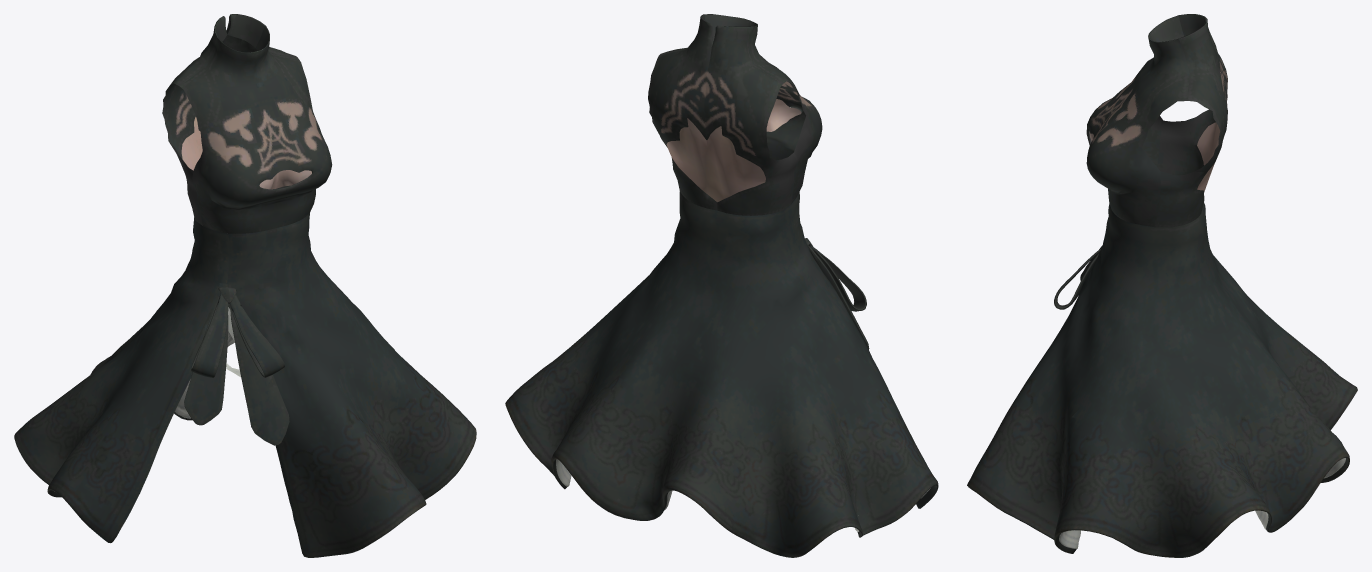
File: body.obj
The picture shows the model from 3 angles, left to right: view 1: azimuth 30°, elevation 25°; view 2: azimuth 150°, elevation 25°; view 3: azimuth 270°, elevation 25°; orthographic projection. The views are drawn at different scales.
Visible parts, largest first — view 1: body:Object01 body:polySurface9 body:polySurface10 body:polySurf, body:Object01 body:polySurface9 body:polySurface21 body:polySurf, body:Object01 body:polySurface2 body:polySurface9 body:polySurfa, body:Object01 body:polySurface9 body:polySurface23 body:polySurf, body:Object01 body:polySurface4 body:polySurface9 body:polySurfa, body:Object01 body:polySurface6 body:polySurface9 body:polySurfa, body:Object01 body:polySurface7 body:polySurface9 body:polySurfa, body:Object01 body:polySurface9 body:polySurface22 body:polySurf, body:Object01 body:polySurface9 body:polySurface48 body:polySurf, body:Object01 body:polySurface9 body:polySurface51 body:polySurf; view 2: body:Object01 body:polySurface9 body:polySurface10 body:polySurf, body:Object01 body:polySurface9 body:polySurface23 body:polySurf, body:Object01 body:polySurface9 body:polySurface22 body:polySurf, body:Object01 body:polySurface9 body:polySurface48 body:polySurf, body:Object01 body:polySurface9 body:polySurface21 body:polySurf, body:Object01 body:polySurface7 body:polySurface9 body:polySurfa, body:Object01 body:polySurface9 body:polySurface51 body:polySurf; view 3: body:Object01 body:polySurface9 body:polySurface10 body:polySurf, body:Object01 body:polySurface9 body:polySurface21 body:polySurf, body:Object01 body:polySurface9 body:polySurface22 body:polySurf, body:Object01 body:polySurface9 body:polySurface23 body:polySurf, body:Object01 body:polySurface9 body:polySurface48 body:polySurf, body:Object01 body:polySurface8 body:polySurface9 body:polySurfa, body:Object01 body:polySurface6 body:polySurface9 body:polySurfa.
Part boxes in pixels (x1,y1,x2,y2): body:Object01 body:polySurface9 body:polySurface10 body:polySurf: (14, 213, 476, 557); body:Object01 body:polySurface9 body:polySurface21 body:polySurf: (179, 26, 332, 233); body:Object01 body:polySurface2 body:polySurface9 body:polySurfa: (230, 305, 289, 445); body:Object01 body:polySurface9 body:polySurface23 body:polySurf: (162, 16, 227, 225); body:Object01 body:polySurface4 body:polySurface9 body:polySurfa: (184, 292, 228, 425); body:Object01 body:polySurface6 body:polySurface9 body:polySurfa: (229, 294, 284, 377); body:Object01 body:polySurface7 body:polySurface9 body:polySurfa: (191, 292, 228, 377); body:Object01 body:polySurface9 body:polySurface22 body:polySurf: (223, 14, 296, 56); body:Object01 body:polySurface9 body:polySurface48 body:polySurf: (181, 117, 202, 170); body:Object01 body:polySurface9 body:polySurface51 body:polySurf: (259, 170, 311, 189); body:Object01 body:polySurface9 body:polySurface10 body:polySurf: (505, 191, 938, 557); body:Object01 body:polySurface9 body:polySurface23 body:polySurf: (704, 25, 797, 215); body:Object01 body:polySurface9 body:polySurface22 body:polySurf: (648, 14, 717, 210); body:Object01 body:polySurface9 body:polySurface48 body:polySurf: (666, 118, 765, 202); body:Object01 body:polySurface9 body:polySurface21 body:polySurf: (662, 14, 822, 203); body:Object01 body:polySurface7 body:polySurface9 body:polySurfa: (808, 245, 866, 311); body:Object01 body:polySurface9 body:polySurface51 body:polySurf: (766, 99, 801, 131); body:Object01 body:polySurface9 body:polySurface10 body:polySurf: (967, 203, 1357, 557); body:Object01 body:polySurface9 body:polySurface21 body:polySurf: (1086, 15, 1189, 227); body:Object01 body:polySurface9 body:polySurface22 body:polySurf: (1156, 22, 1227, 227); body:Object01 body:polySurface9 body:polySurface23 body:polySurf: (1157, 14, 1227, 175); body:Object01 body:polySurface9 body:polySurface48 body:polySurf: (1197, 122, 1220, 191); body:Object01 body:polySurface8 body:polySurface9 body:polySurfa: (1059, 458, 1345, 549); body:Object01 body:polySurface6 body:polySurface9 body:polySurfa: (1054, 248, 1101, 309).
Bounding box in the file's own units: 15.61 × 19.11 × 13.76.
Materials: 2 (2 with a texture image).
